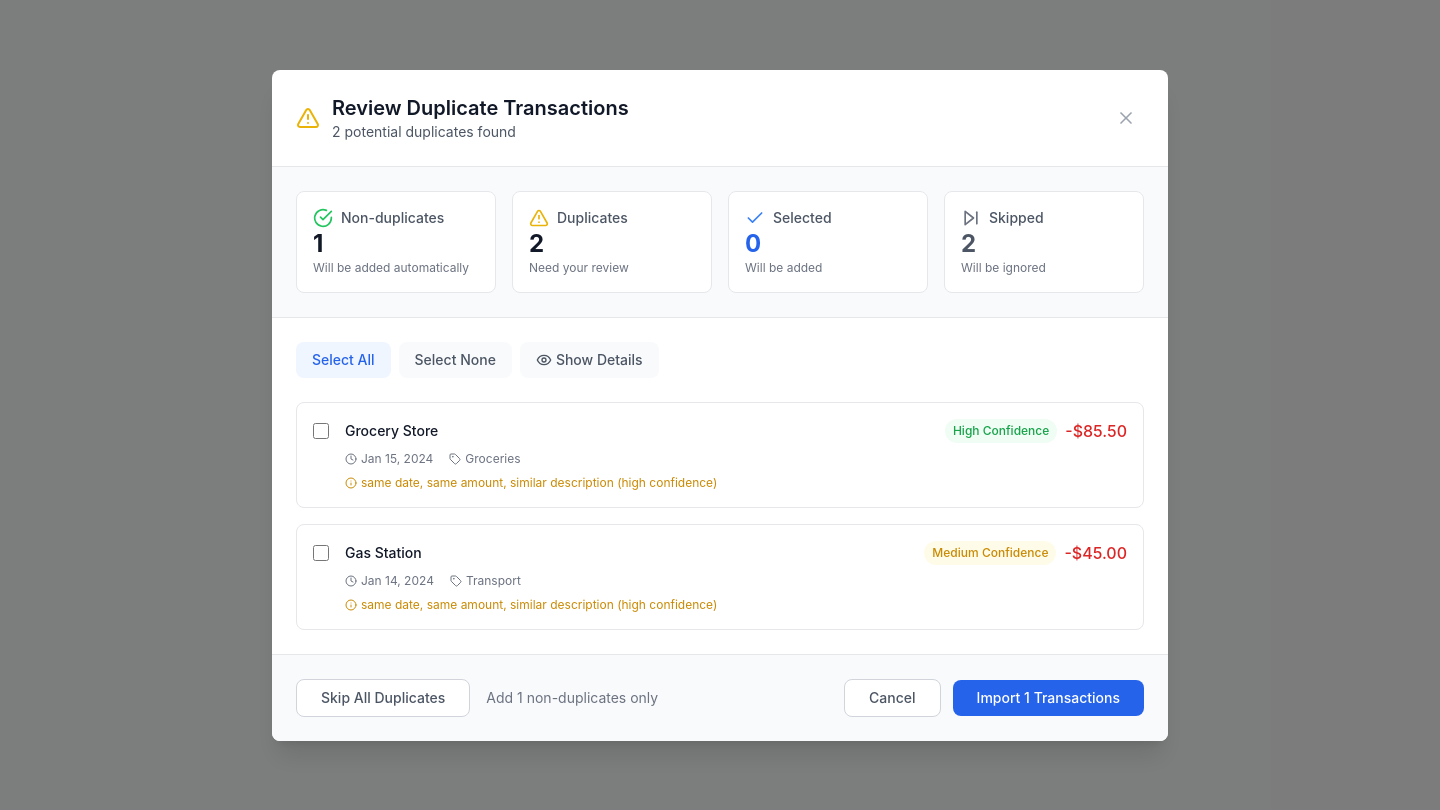
DuplicateReviewModal › allows selecting none
This screenshot has width=1440, height=810.
// First select all
Click the button "Select All": (343, 360) [296,342,391,378]
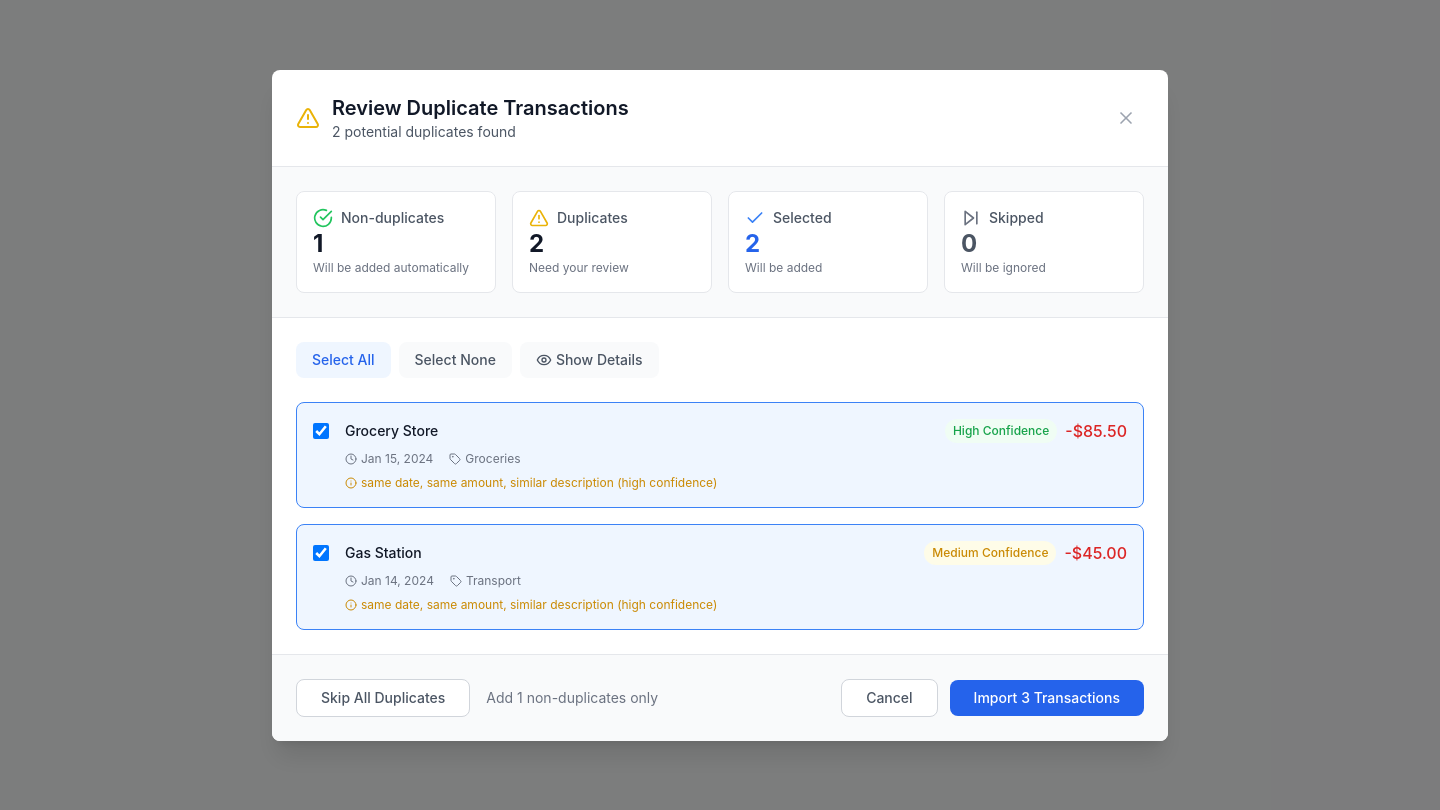
// Then select none
Click the button "Select None": (455, 360) [399,342,512,378]
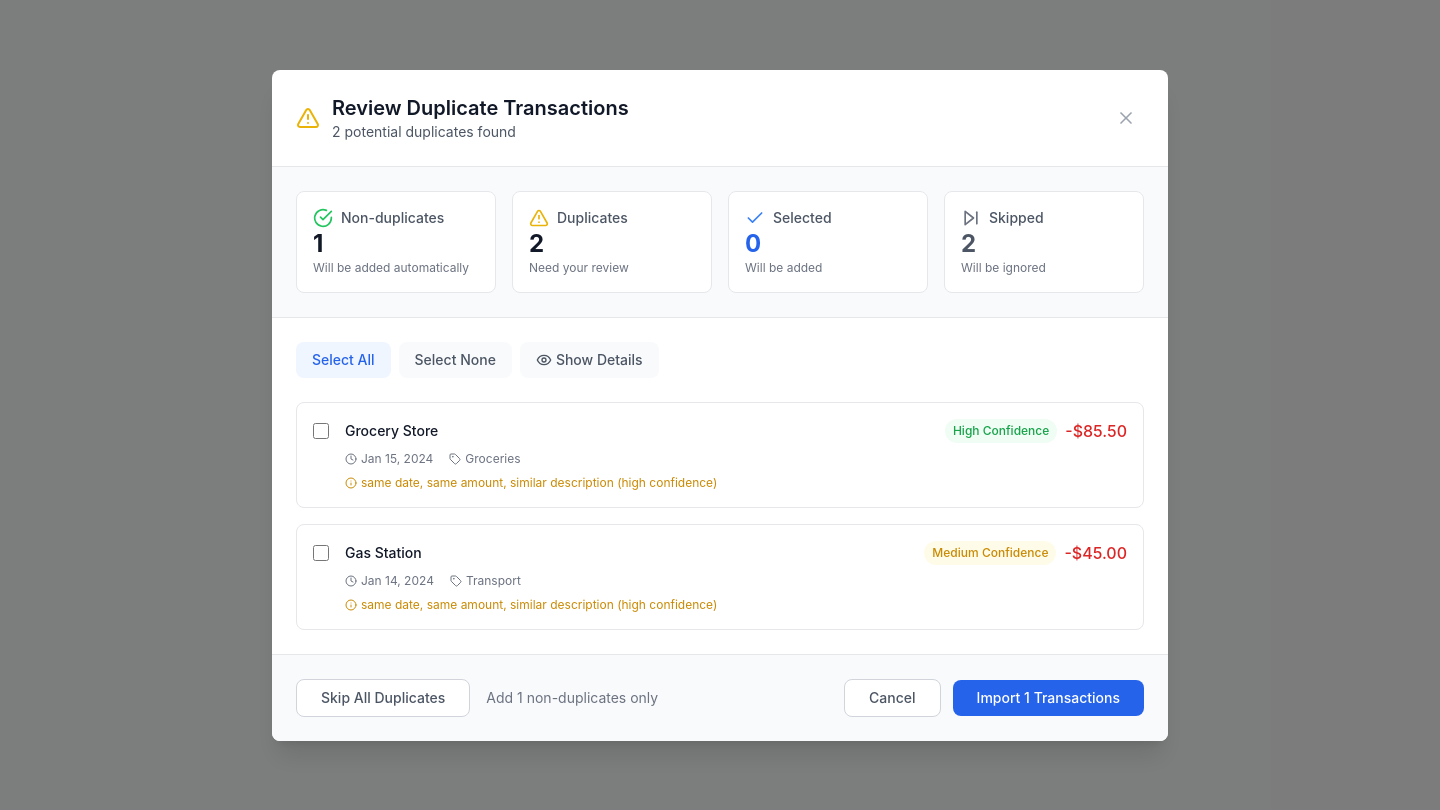
Expected: the checkbox next to "Grocery Store" is not checked, [313,422,329,438]
Expected: the checkbox next to "Gas Station" is not checked, [313,544,329,560]
